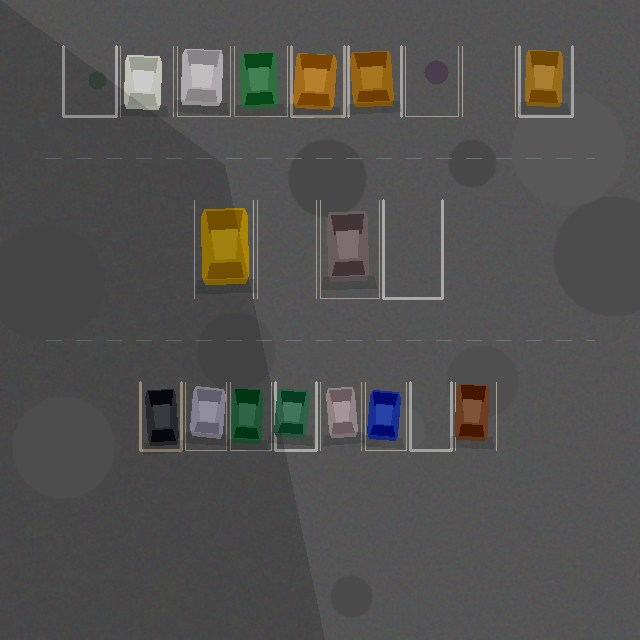space-empty: (257, 200, 316, 298), (383, 200, 442, 298), (63, 46, 116, 116), (405, 46, 458, 116), (462, 46, 515, 116), (410, 382, 451, 450)
space-occupied: (194, 200, 253, 298), (320, 200, 379, 298), (120, 46, 173, 116), (177, 46, 230, 116), (234, 46, 287, 116), (291, 46, 344, 116), (348, 46, 401, 116), (519, 46, 572, 116), (140, 382, 181, 450), (185, 382, 226, 450), (230, 382, 271, 450), (275, 382, 316, 450), (320, 382, 361, 450), (365, 382, 406, 450), (455, 382, 496, 450)
